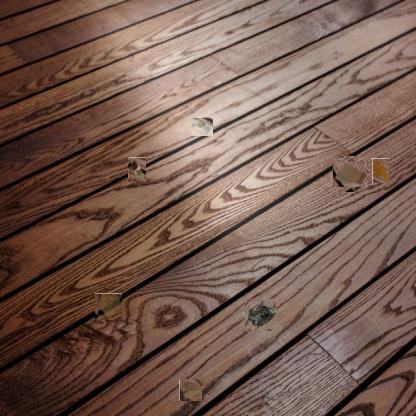dirty: (334, 158, 366, 190), (245, 300, 275, 330), (180, 379, 202, 402), (189, 117, 213, 136), (128, 157, 146, 182)
liquid: (94, 293, 122, 320), (372, 158, 389, 183)
